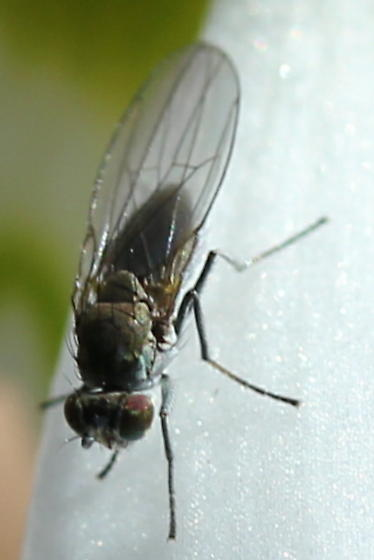Ephydridae: (36, 42, 331, 543)
